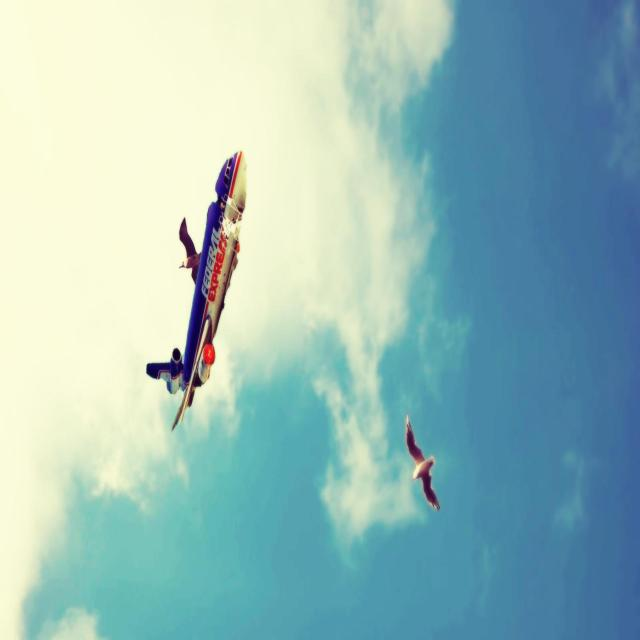airplane: (146, 149, 247, 431)
